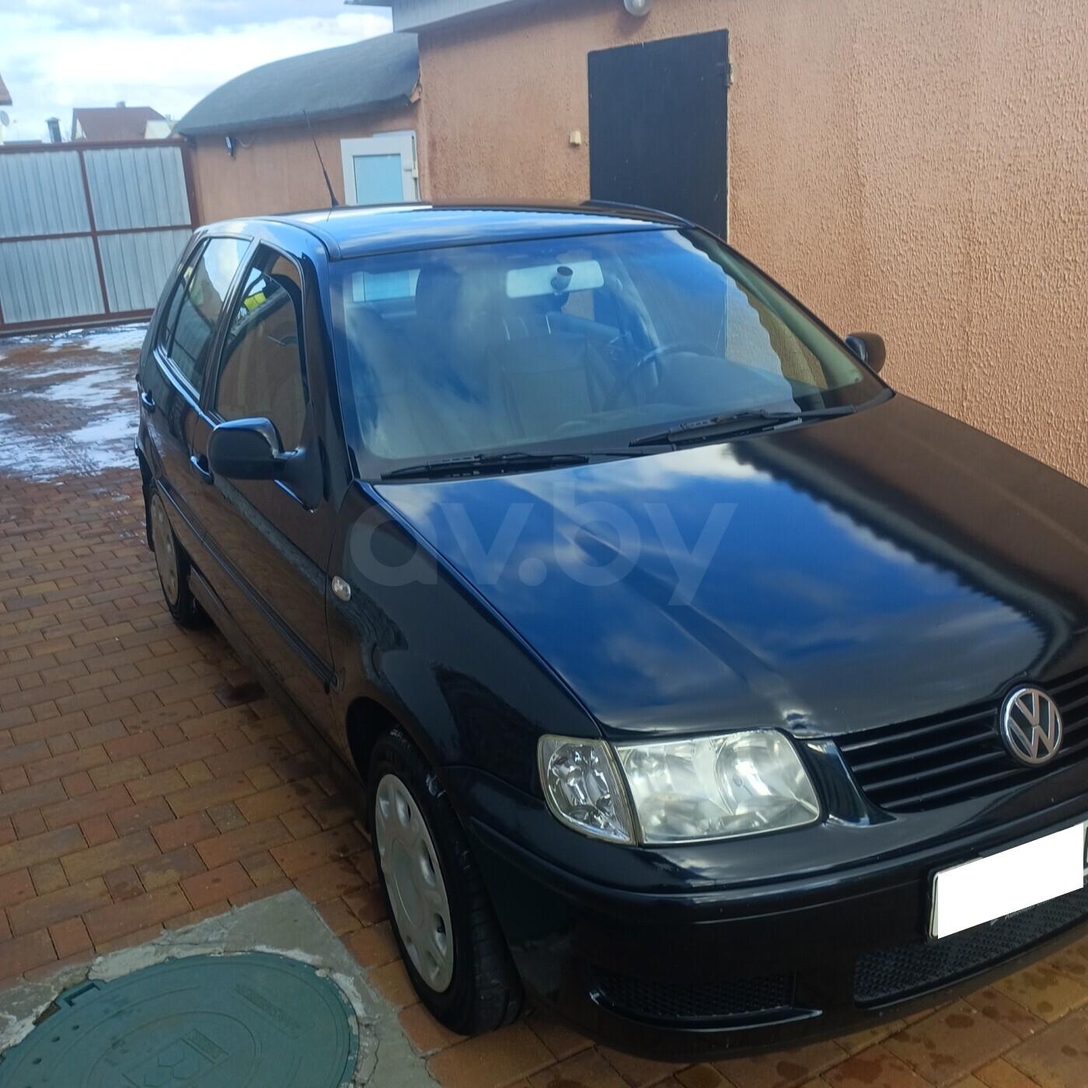Polo_2000-2002: (124, 199, 1088, 1046)
